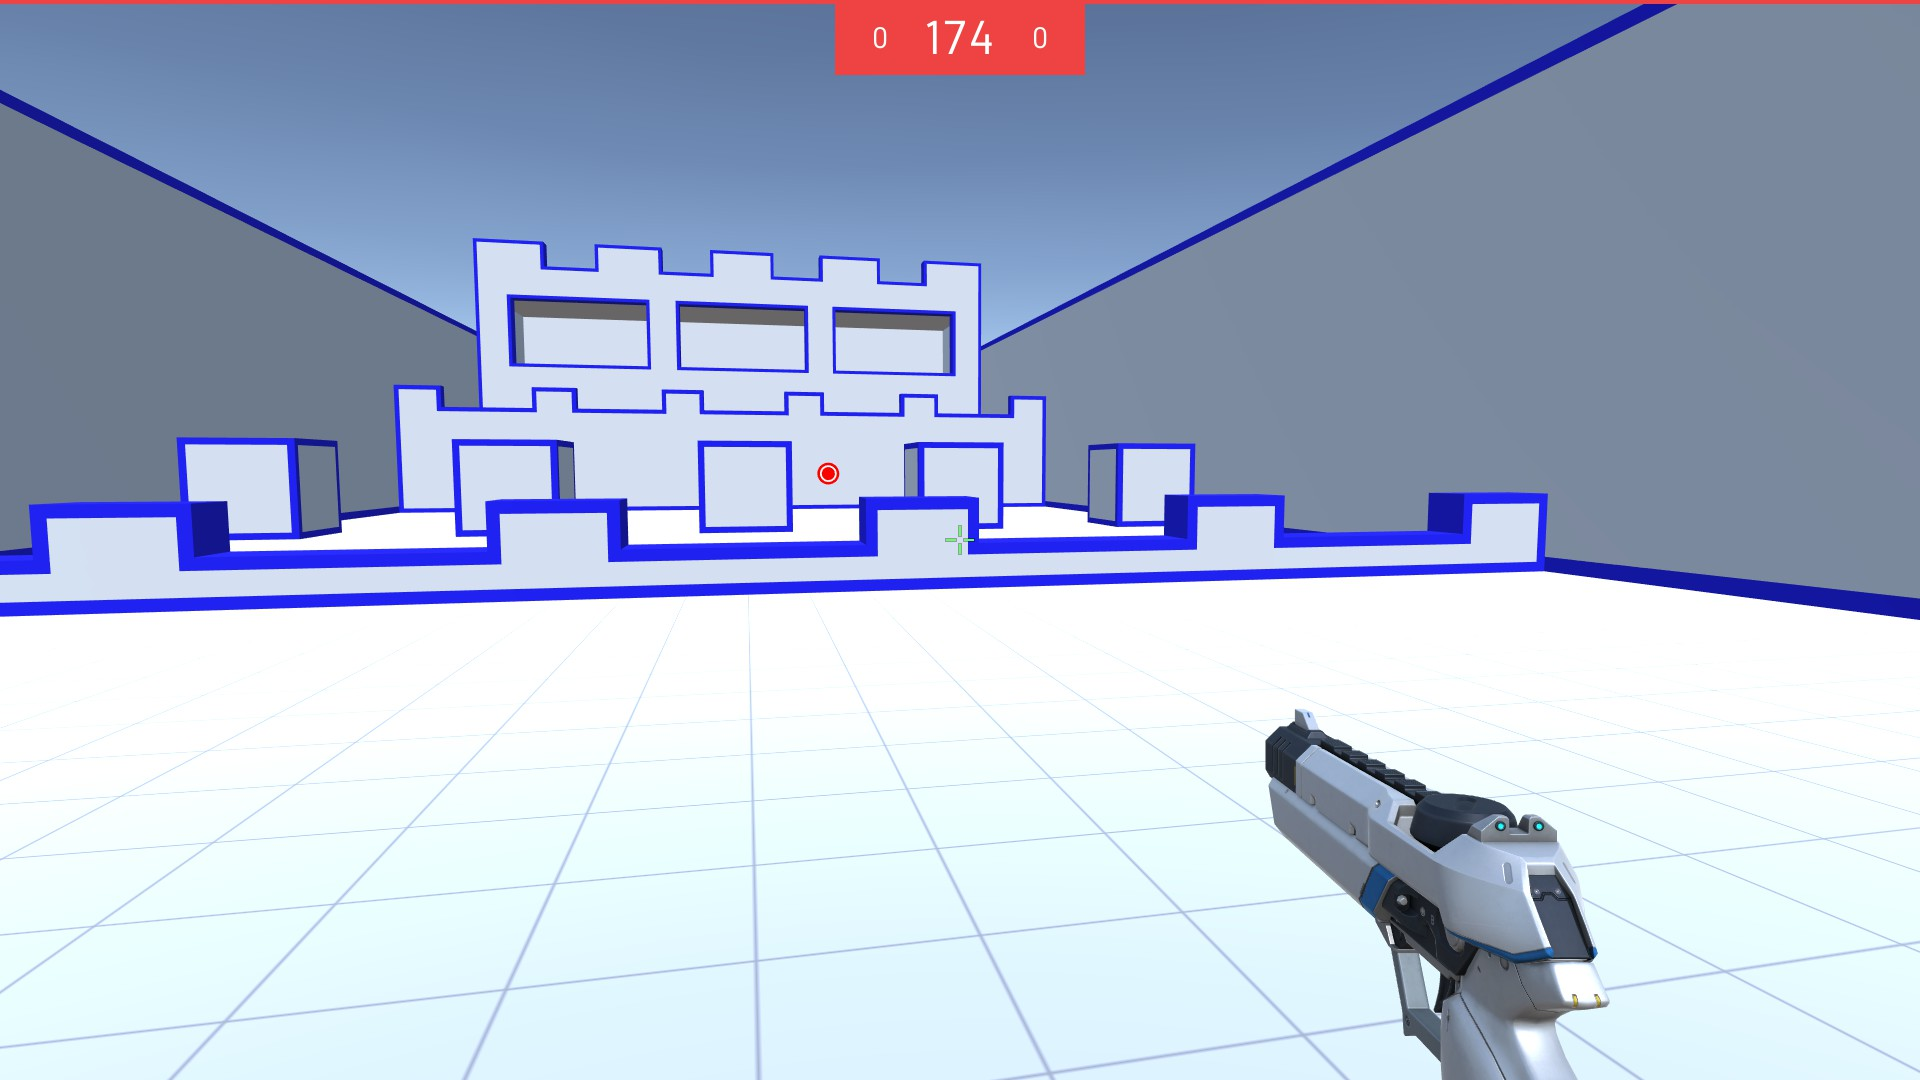target: (816, 462, 839, 485)
